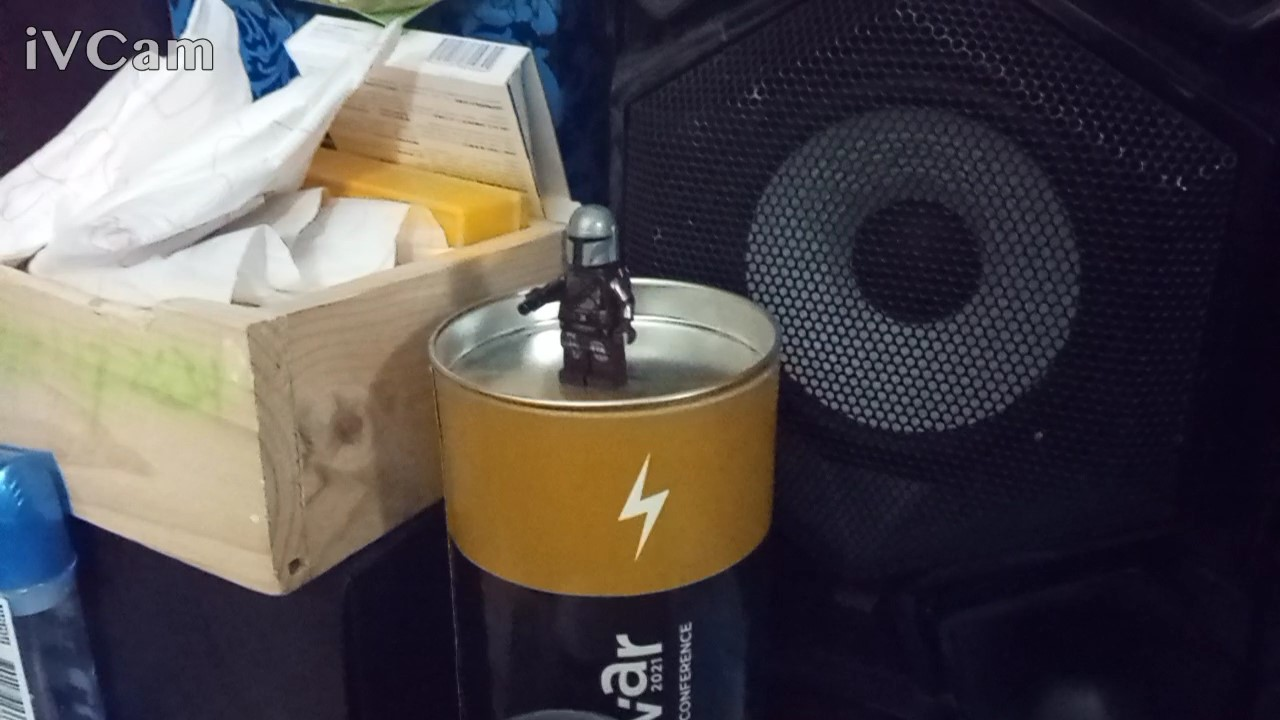mandalorian: (517, 196, 671, 402)
